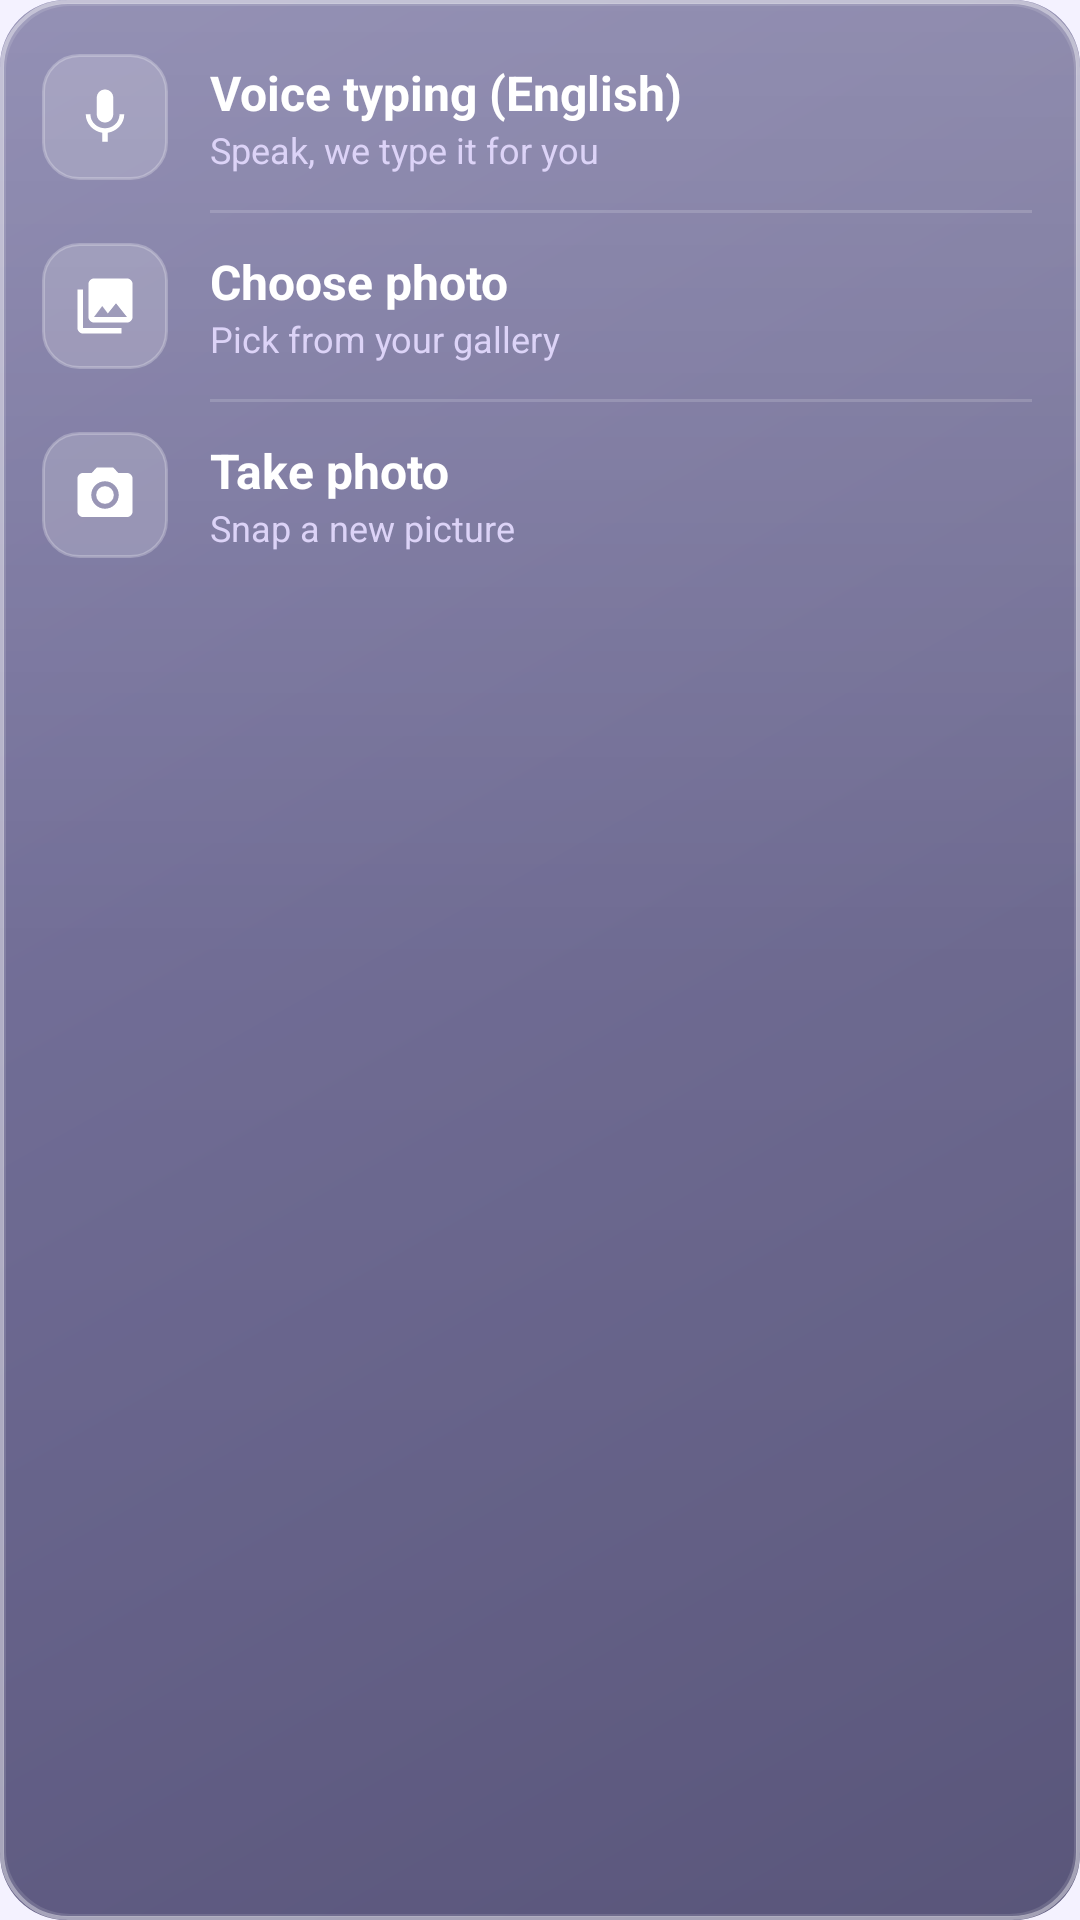

Screen size 1080px x 1920px. Icon name, then its center in pixels as (x=x, y=y):
camera: (x=105, y=492)
mic: (x=105, y=115)
photo library: (x=105, y=306)
